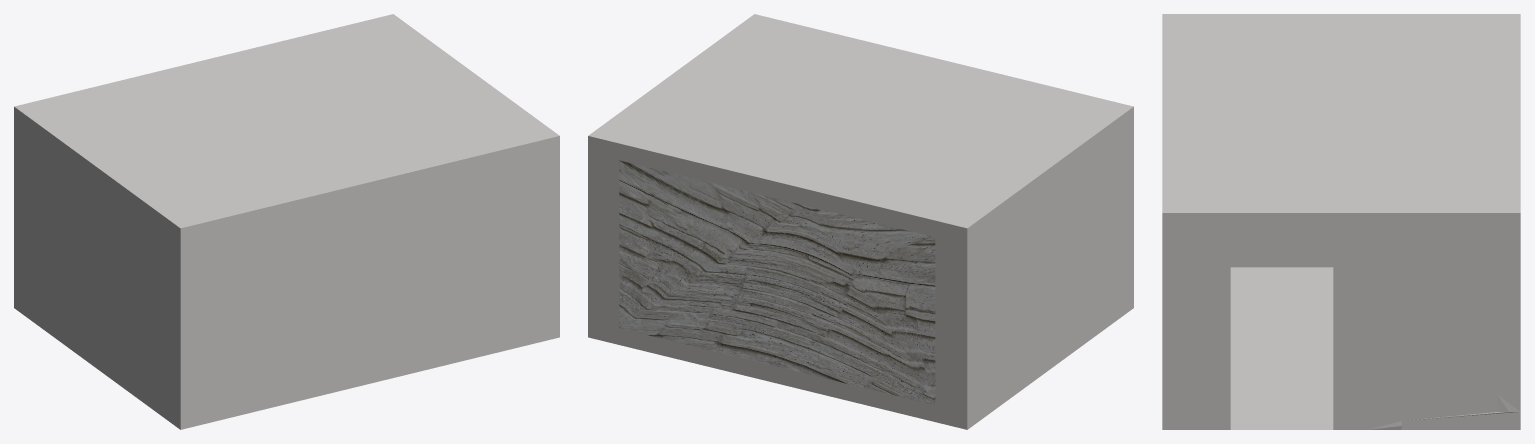
The model's file is room.obj.
3 renders of one model, left to right at view 1: azimuth 30°, elevation 25°; view 2: azimuth 150°, elevation 25°; view 3: azimuth 270°, elevation 25°, orthographic. The views are drawn at different scales.
Visible parts, largest first — view 1: Cube_Cube.001; view 2: Cube_Cube.001; view 3: Cube_Cube.001.
Part boxes in pixels (box(x1,y1,x2,y2)): Cube_Cube.001: box(14, 14, 559, 429); Cube_Cube.001: box(588, 14, 1133, 429); Cube_Cube.001: box(1162, 14, 1520, 429).
Bounding box in the file's own units: 78.88 × 40 × 59.9.
